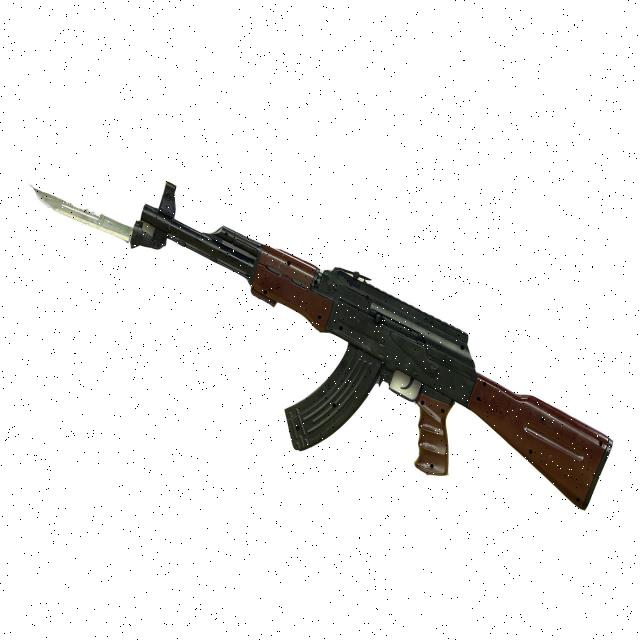Automaticrifle: (35, 188, 615, 514)
